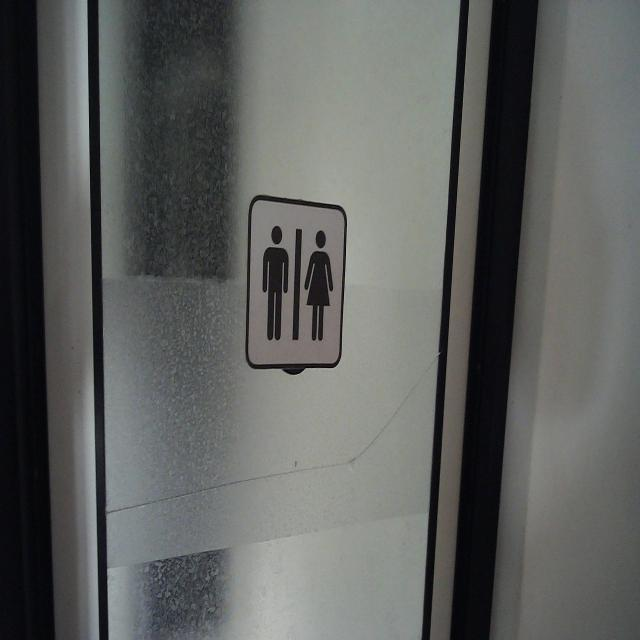restroom: (244, 192, 348, 372)
